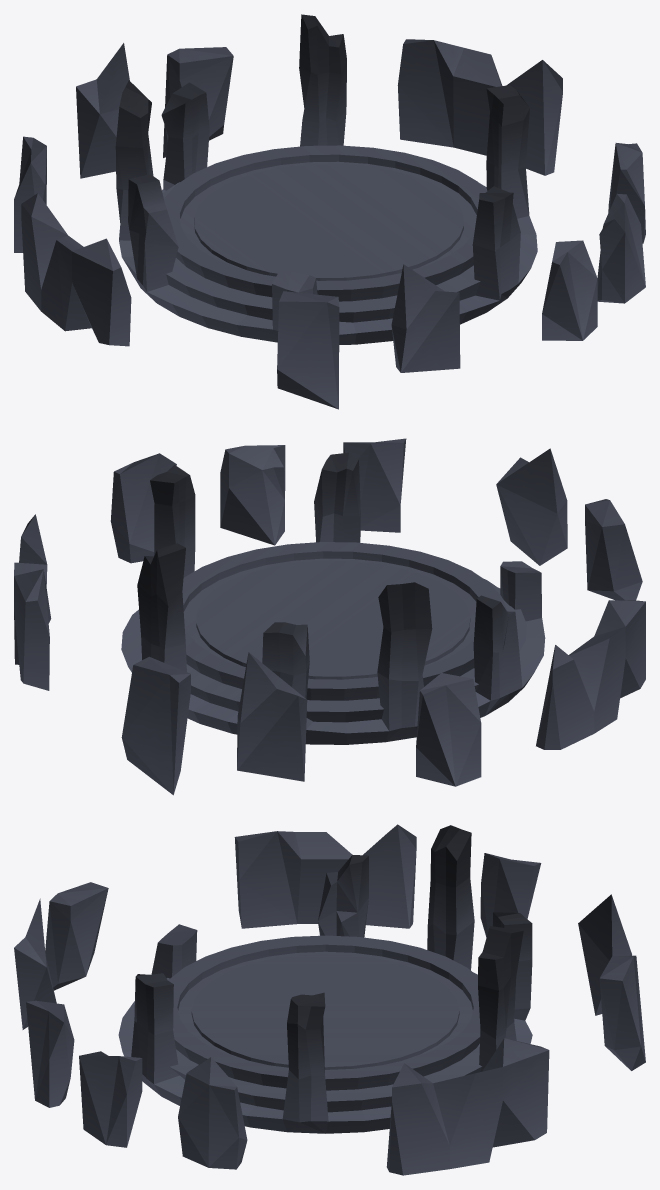
File: stone_square.fbx
3 views of the same model, one above another, from view 1: azimuth 30°, elevation 25°; view 2: azimuth 150°, elevation 25°; view 3: azimuth 270°, elevation 25° (orthographic). The views are drawn at different scales.
Parts seen in each view (by area): view 1: Outside rocks.001; view 2: Outside rocks.001; view 3: Outside rocks.001.
Part boxes in pixels (<box>): Outside rocks.001: <box>14,14,645,409</box>; Outside rocks.001: <box>14,438,645,795</box>; Outside rocks.001: <box>14,824,645,1175</box>.
Bounding box in the file's own units: 1191 × 363 × 1219.
Materials: 1 (1 with a texture image).
